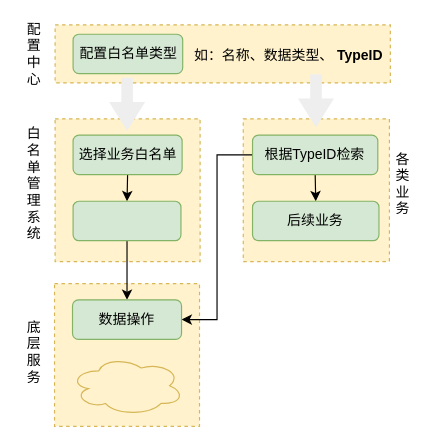
Image size: 437x447. Some labels were removed from this diagram. The shapes that lost their labels are listed below. From the top down, each one's box as (x1, y1, x2, y2) in pixels, then its label:
(72, 200, 181, 241): 增删改查
(69, 355, 184, 415): 数据库
